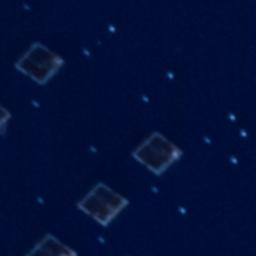square_cover: (73, 179, 131, 226), (11, 39, 66, 87), (132, 128, 184, 177), (21, 228, 76, 256)
